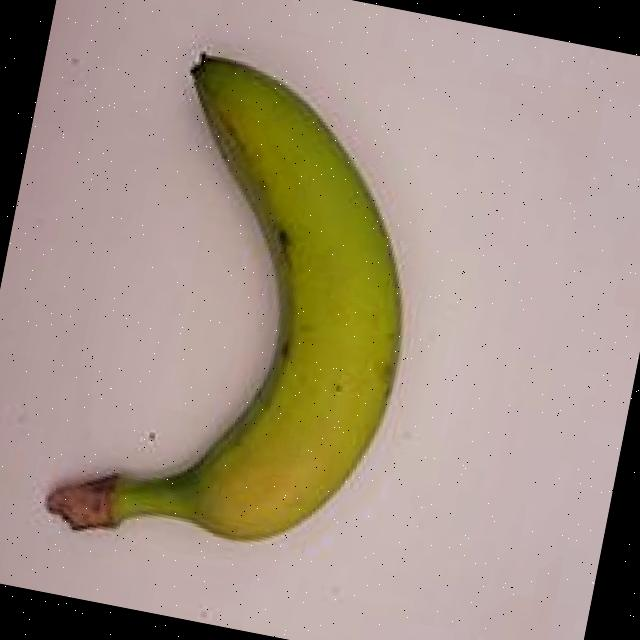Unripe: (2, 3, 480, 610)
